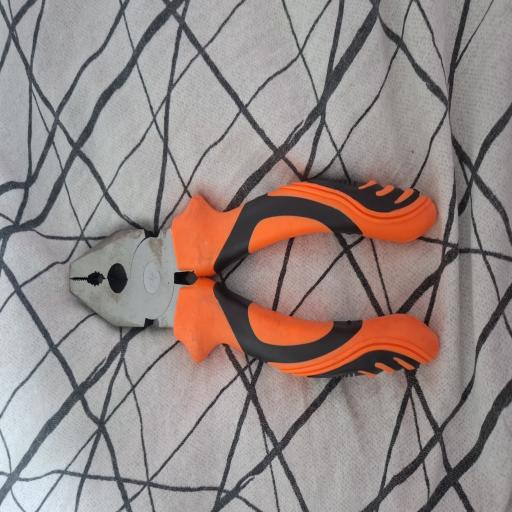alicate: (66, 170, 442, 380)
